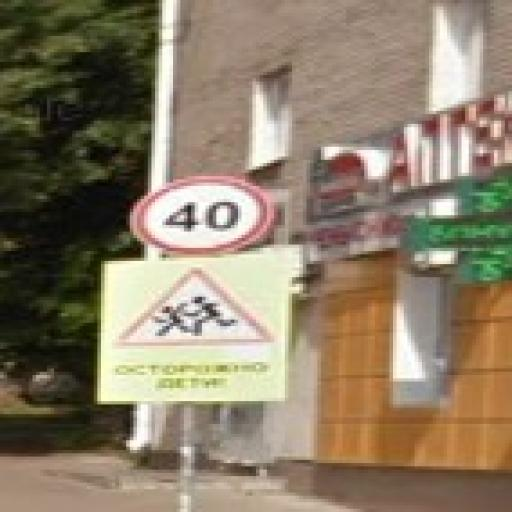traffic_sign: (106, 269, 275, 354), (131, 177, 275, 259)
